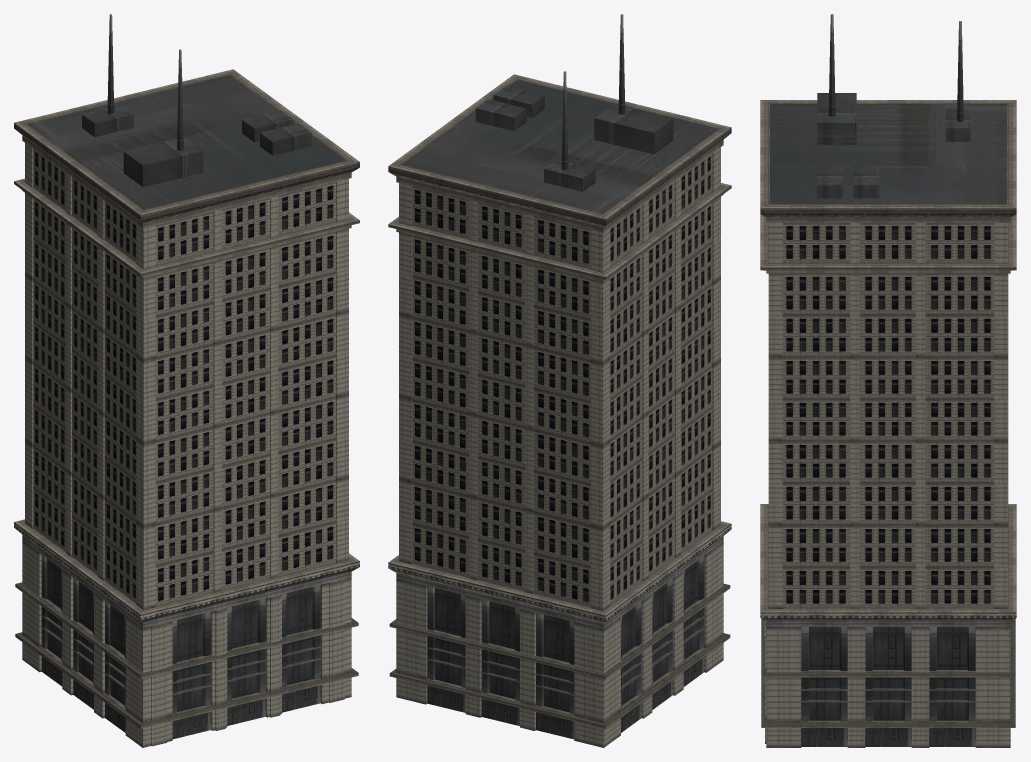
File: Downtown_ModernOffice_5.fbx
The picture shows the model from 3 angles, left to right: view 1: azimuth 30°, elevation 25°; view 2: azimuth 150°, elevation 25°; view 3: azimuth 270°, elevation 25°; orthographic projection.
Parts seen in each view (by area): view 1: Downtown_ModernOffice_5__3_; view 2: Downtown_ModernOffice_5__3_; view 3: Downtown_ModernOffice_5__3_.
Part boxes in pixels (box(x1,y1,x2,y2)): Downtown_ModernOffice_5__3_: box(14, 14, 359, 747); Downtown_ModernOffice_5__3_: box(388, 14, 731, 747); Downtown_ModernOffice_5__3_: box(760, 14, 1016, 747).
Size of the model in its own units: 4391 by 12576 by 4391.
2 materials, 2 textured.
